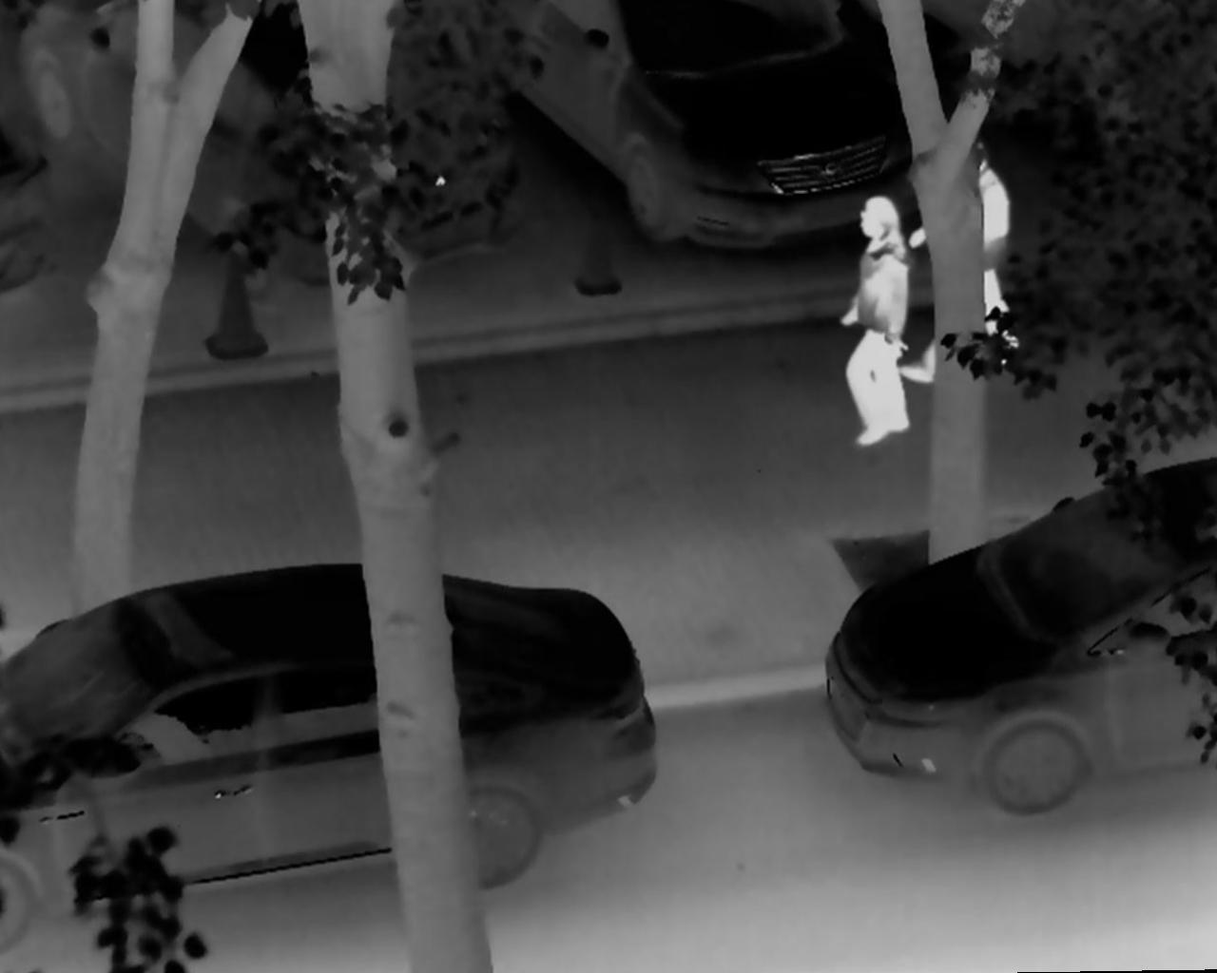person: (896, 123, 1034, 390), (820, 196, 918, 450)
